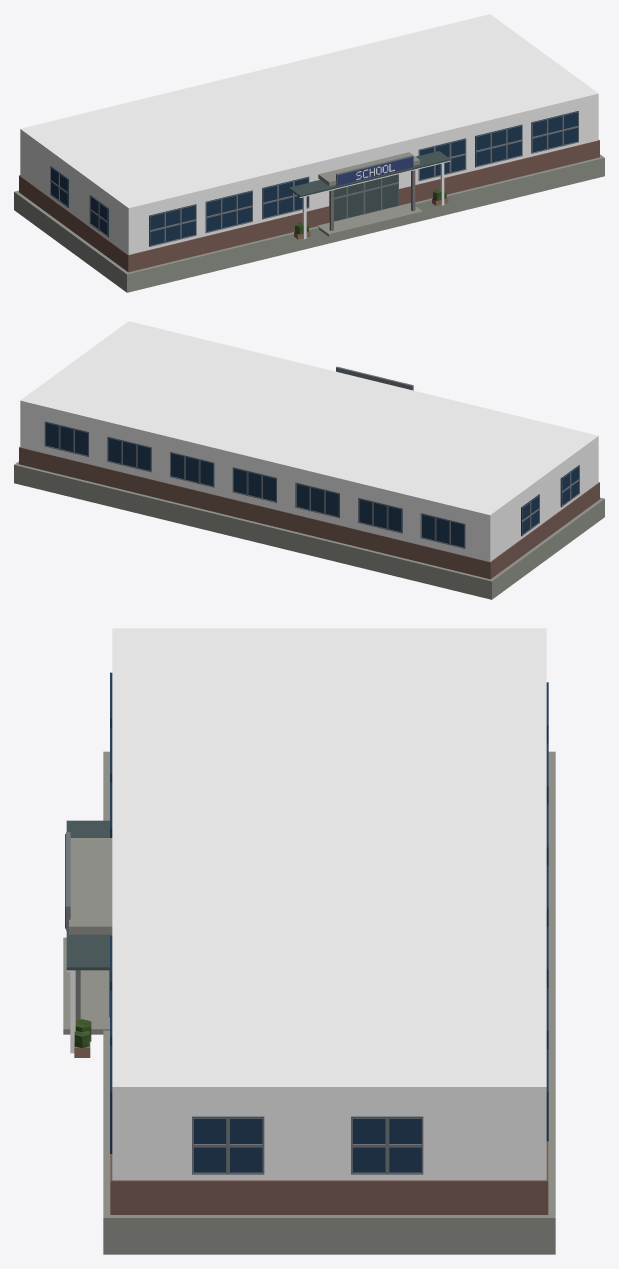
File: mashup-main-base-prebuilt_close.fbx
3 renders of one model, top to bottom at view 1: azimuth 30°, elevation 25°; view 2: azimuth 150°, elevation 25°; view 3: azimuth 270°, elevation 25°, orthographic. The views are drawn at different scales.
Visible parts, largest first — view 1: a200.MainBase.001; view 2: a200.MainBase.001; view 3: a200.MainBase.001.
Part boxes in pixels (x1,y1,x2,y2): a200.MainBase.001: (14,14,604,292); a200.MainBase.001: (14,321,604,599); a200.MainBase.001: (63,628,555,1254).
Size of the model in its own units: 30.5 by 5 by 13.6.
